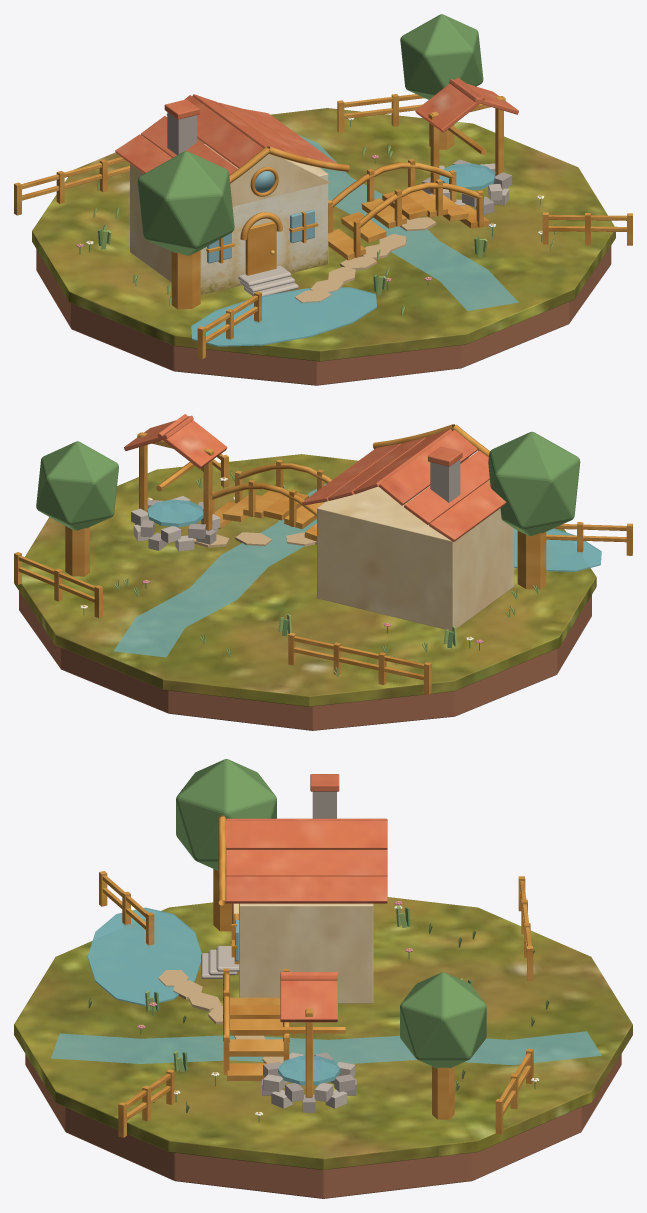
The model's file is cozy-village-low.glb.
The picture shows the model from 3 angles, top to bottom: view 1: azimuth 30°, elevation 25°; view 2: azimuth 150°, elevation 25°; view 3: azimuth 270°, elevation 25°; orthographic projection. The views are drawn at different scales.
Visible parts, largest first — view 1: Island_Grass, Island_Soil, Cottage_Walls, Tree_0_Crown, PuddleReflection, Stream_Water, Tree_1_Crown, Astra_Tile_-1_0_0, Cottage_Gable, Well_Roof_-1, Tree_0_Trunk, Door (+21 smaller); view 2: Island_Grass, Cottage_Walls, Island_Soil, Stream_Water, Tree_0_Crown, Tree_1_Crown, Astra_Tile_-1_0_0, Astra_Tile_-1_2_0, Astra_Tile_-1_1_0, PuddleReflection, Well_Roof_-1, Tree_0_Trunk (+18 smaller); view 3: Island_Grass, Island_Soil, Cottage_Walls, Stream_Water, PuddleReflection, Tree_1_Crown, Tree_0_Crown, Astra_Tile_1_0_0, Astra_Tile_1_2_0, Astra_Tile_1_1_0, Well_Roof_1, Well_Water (+9 smaller).
Part boxes in pixels (box(x1,y1,x2,y2)): Island_Grass: box(32, 108, 615, 361); Island_Soil: box(36, 245, 611, 385); Cottage_Walls: box(130, 144, 328, 294); Tree_0_Crown: box(137, 151, 234, 255); PuddleReflection: box(191, 287, 376, 346); Stream_Water: box(297, 134, 518, 310); Tree_1_Crown: box(400, 14, 483, 99); Astra_Tile_-1_0_0: box(166, 95, 263, 168); Cottage_Gable: box(230, 154, 330, 206); Well_Roof_-1: box(415, 77, 485, 132); Tree_0_Trunk: box(171, 250, 200, 309); Door: box(245, 221, 276, 275); Island_Grass: box(14, 454, 596, 706); Cottage_Walls: box(317, 485, 514, 630); Island_Soil: box(19, 591, 591, 730); Stream_Water: box(113, 483, 326, 657); Tree_0_Crown: box(488, 431, 580, 535); Tree_1_Crown: box(36, 441, 118, 530); Astra_Tile_-1_0_0: box(378, 430, 477, 505); Astra_Tile_-1_2_0: box(429, 479, 506, 541); Astra_Tile_-1_1_0: box(404, 450, 489, 524); PuddleReflection: box(514, 528, 601, 571); Well_Roof_-1: box(157, 414, 227, 468); Tree_0_Trunk: box(517, 531, 546, 589); Island_Grass: box(14, 897, 632, 1169); Island_Soil: box(25, 1054, 621, 1198); Cottage_Walls: box(239, 903, 373, 1003); Stream_Water: box(51, 1031, 601, 1065); PuddleReflection: box(87, 907, 201, 1005); Tree_1_Crown: box(400, 972, 486, 1068); Tree_0_Crown: box(176, 759, 276, 870); Astra_Tile_1_0_0: box(226, 820, 387, 849); Astra_Tile_1_2_0: box(225, 876, 387, 903); Astra_Tile_1_1_0: box(226, 849, 387, 876); Well_Roof_1: box(280, 972, 337, 1022); Well_Water: box(278, 1056, 340, 1085).
Bounding box in the file's own units: 22.34 × 8.19 × 21.7.
Materials: 19 (7 with a texture image).
